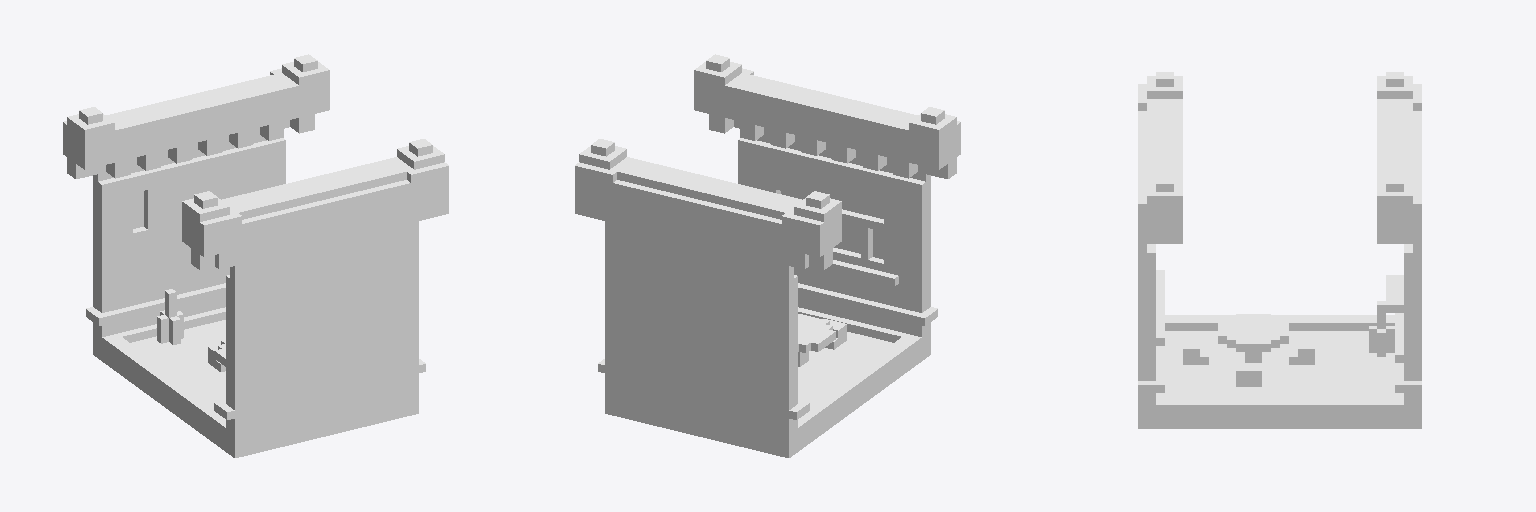
Rendered from tile_3_middle_fancy_90.obj.
3 renders of one model, left to right at view 1: azimuth 30°, elevation 25°; view 2: azimuth 150°, elevation 25°; view 3: azimuth 270°, elevation 25°, orthographic.
Parts seen in each view (by area): view 1: object 1; view 2: object 1; view 3: object 1.
Boxes of the visible parts, x1,y1,x2,y2 form: object 1: [63, 54, 448, 457]; object 1: [575, 54, 960, 457]; object 1: [1138, 72, 1421, 428].
Bounding box in the file's own units: 3.2 × 3.2 × 3.2.